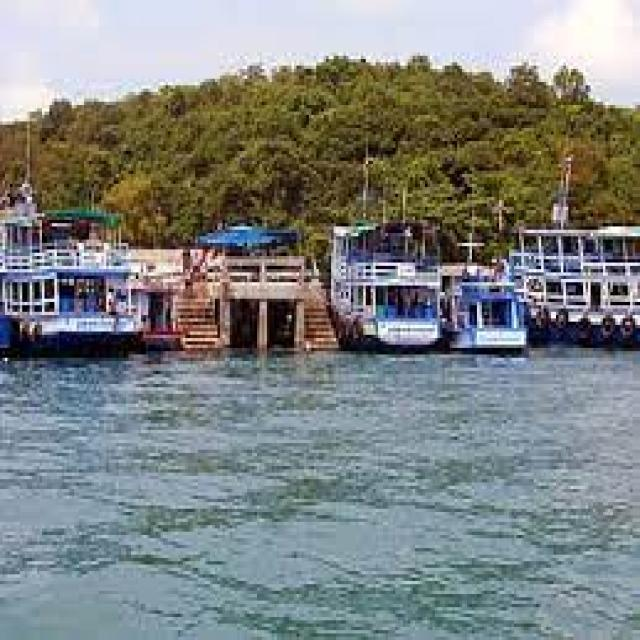passenger ship: (9, 193, 150, 346), (507, 192, 640, 336), (336, 210, 453, 370), (444, 250, 535, 344)
